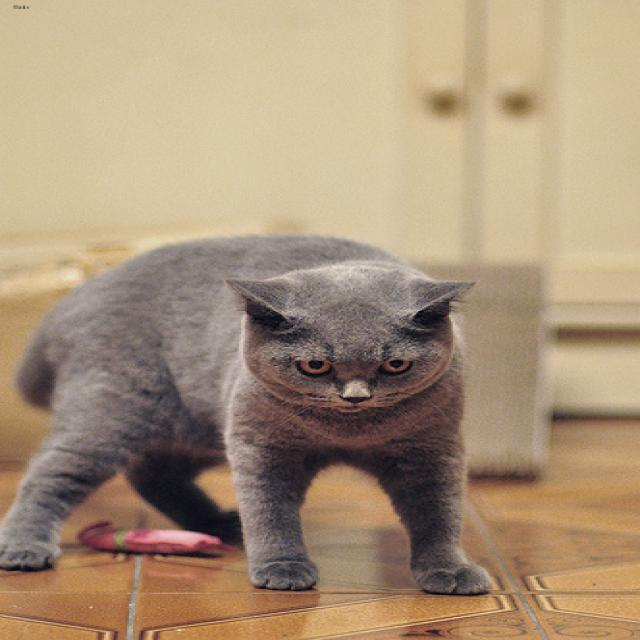British_Shorthair: (224, 269, 472, 411)
